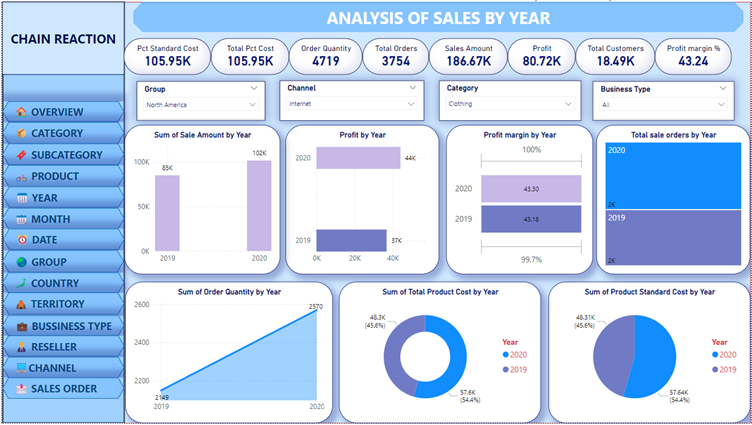

Layout of this report page (visuals, bound fields, positions):
{"tool":"powerbi","page":{"name":"Year","canvas":[1280,720],"ordinal":6},"visuals":[{"type":"shape","box":[207.6,0,1072.4,720.2],"z":0},{"type":"shape","box":[0,0,209.9,720.4],"z":1000},{"type":"shape","box":[0.4,0,209.1,124.7],"z":2000},{"type":"shape","box":[0,170.1,208.6,35],"z":3000},{"type":"shape","box":[0,205,209,37],"z":4000},{"type":"shape","box":[0,242,209,37],"z":5000},{"type":"shape","box":[0,279,209,37],"z":6000},{"type":"shape","box":[1,316,208,36],"z":7000},{"type":"shape","box":[0,352,209,36],"z":8000},{"type":"shape","box":[1,388,208,36],"z":9000},{"type":"shape","box":[0,424,208,38],"z":10000},{"type":"shape","box":[0,462,209,35],"z":11000},{"type":"shape","box":[0,497,209,38],"z":12000},{"type":"shape","box":[0,535,209,35],"z":13000},{"type":"shape","box":[0,570,209,36],"z":14000},{"type":"shape","box":[0,606,209,36],"z":15000},{"type":"shape","box":[0,642,209,36],"z":16000},{"type":"card","title":"Order Quantity","fields":{"Values":["Sum(Sales.Order Quantity)"]},"box":[490.4,62.4,126,62.4],"z":17000},{"type":"card","title":"Pct Standard Cost","fields":{"Values":["Sum(Sales.Product Standard Cost)"]},"box":[207.9,62.4,149.2,62.4],"z":18000},{"type":"card","title":"Sales Amount","fields":{"Values":["Sum(Sales.Sale Amount)"]},"box":[730,62.4,134.5,62.4],"z":19000},{"type":"card","title":"Profit","fields":{"Values":["Sales.Profit"]},"box":[864.5,62.4,116.2,62.4],"z":20000},{"type":"card","title":"Total Pct Cost","fields":{"Values":["Sum(Sales.Total Product Cost)"]},"box":[357.1,62.4,133.3,62.4],"z":21000},{"type":"card","title":"Total Orders","fields":{"Values":["Sales.Total sale orders"]},"box":[616.3,62.4,113.7,62.4],"z":22000},{"type":"card","title":"Total Customers","fields":{"Values":["Count(Customer.Customer ID)"]},"box":[980.7,62.4,135.7,62.4],"z":23000},{"type":"card","title":"Profit margin %","fields":{"Values":["Sales.Profit margin"]},"box":[1116.4,62.4,130.8,62.4],"z":24000},{"type":"slicer","title":"Date","fields":{"Values":["Business Type.Business Type"]},"box":[1010.1,135.7,242.1,67.3],"z":25000},{"type":"slicer","title":"Category","fields":{"Values":["Category.Category"]},"box":[747.2,134.5,243.3,68.5],"z":26000},{"type":"slicer","title":"Channel","fields":{"Values":["Channel.Channel"]},"box":[474.5,134.5,247,68.5],"z":27000},{"type":"slicer","title":"Group","fields":{"Values":["Group.Group"]},"box":[229.9,135.7,220.1,67.3],"z":28000},{"type":"shape","title":"dbdbdjb","box":[223.7,0,1044.3,52.1],"z":29000},{"type":"pieChart","fields":{"Y":["Sum(Sales.Product Standard Cost)"],"Category":["Date.Year"]},"box":[934.2,478.5,345.8,241.5],"z":30000},{"type":"areaChart","fields":{"Category":["Date.Year"],"Y":["Sum(Sales.Order Quantity)"]},"box":[209.9,478.5,355.4,241.5],"z":31000},{"type":"donutChart","fields":{"Category":["Date.Year"],"Y":["Sum(Sales.Total Product Cost)"]},"box":[576.3,478.5,345.8,241.5],"z":32000},{"type":"clusteredBarChart","fields":{"Category":["Date.Year"],"Y":["Sales.Profit"]},"box":[484.4,209.9,263.5,255.2],"z":33000},{"type":"columnChart","fields":{"Category":["Date.Year"],"Y":["Sum(Sales.Sale Amount)"]},"box":[208.6,209.9,266.2,255.2],"z":34000},{"type":"funnel","fields":{"Category":["Date.Year"],"Y":["Sales.Profit margin"]},"box":[758.8,209.9,251.1,255.2],"z":35000},{"type":"treemap","fields":{"Group":["Date.Year"],"Values":["Sales.Total sale orders"]},"box":[1016.5,209.9,263.5,255.2],"z":36000}]}

Visuals, with their boxes in screenshot pixels (x1, y1, x2, y2), scaled from the page's 1280x720 canvas onto the 752x425 screenshot:
shape: (122, 0, 751, 424)
shape: (0, 0, 123, 424)
shape: (0, 0, 123, 74)
shape: (0, 100, 123, 121)
shape: (0, 121, 123, 143)
shape: (0, 143, 123, 165)
shape: (0, 165, 123, 187)
shape: (1, 187, 123, 208)
shape: (0, 208, 123, 229)
shape: (1, 229, 123, 250)
shape: (0, 250, 122, 273)
shape: (0, 273, 123, 293)
shape: (0, 293, 123, 316)
shape: (0, 316, 123, 336)
shape: (0, 336, 123, 358)
shape: (0, 358, 123, 379)
shape: (0, 379, 123, 400)
"Order Quantity" card: (288, 37, 362, 74)
"Pct Standard Cost" card: (122, 37, 210, 74)
"Sales Amount" card: (429, 37, 508, 74)
"Profit" card: (508, 37, 576, 74)
"Total Pct Cost" card: (210, 37, 288, 74)
"Total Orders" card: (362, 37, 429, 74)
"Total Customers" card: (576, 37, 656, 74)
"Profit margin %" card: (656, 37, 733, 74)
"Date" slicer: (593, 80, 736, 120)
"Category" slicer: (439, 79, 582, 120)
"Channel" slicer: (279, 79, 424, 120)
"Group" slicer: (135, 80, 264, 120)
"dbdbdjb" shape: (131, 0, 745, 31)
pieChart - Sum(Sales.Product Standard Cost) x Date.Year: (549, 282, 751, 424)
areaChart - Date.Year x Sum(Sales.Order Quantity): (123, 282, 332, 424)
donutChart - Date.Year x Sum(Sales.Total Product Cost): (339, 282, 542, 424)
clusteredBarChart - Date.Year x Sales.Profit: (285, 124, 439, 275)
columnChart - Date.Year x Sum(Sales.Sale Amount): (123, 124, 279, 275)
funnel - Date.Year x Sales.Profit margin: (446, 124, 593, 275)
treemap - Date.Year x Sales.Total sale orders: (597, 124, 751, 275)
